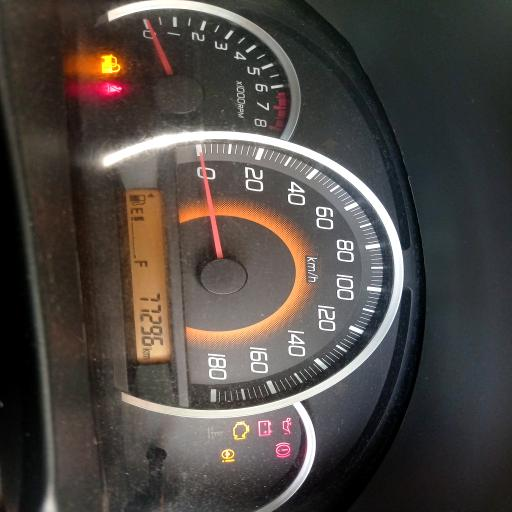belt: (102, 82, 122, 95)
brake_system_fault: (274, 442, 291, 458)
car_closed: (101, 53, 121, 75)
check_engine: (233, 420, 251, 440)
oil: (282, 417, 292, 435)
tachometer: (108, 0, 302, 142)
vehicle_charging: (258, 420, 272, 437)
